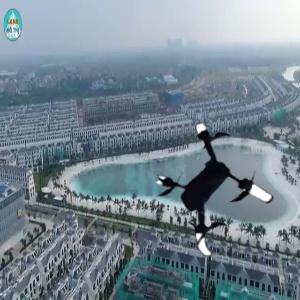drone: (149, 124, 287, 262)
